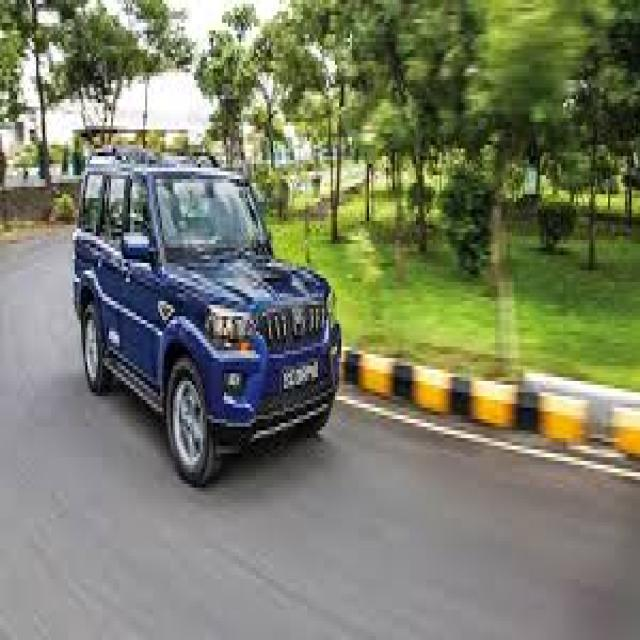Car: (72, 132, 340, 483)
Two Wheeler: (72, 156, 341, 483)
